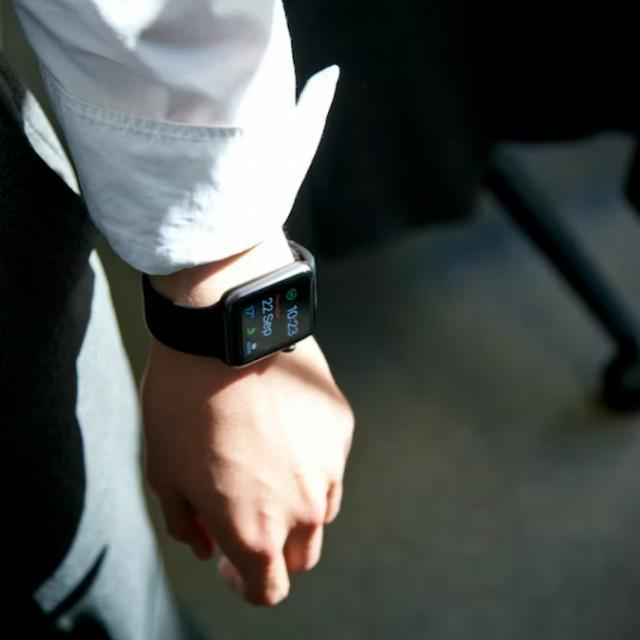Watch: (143, 245, 329, 383)
